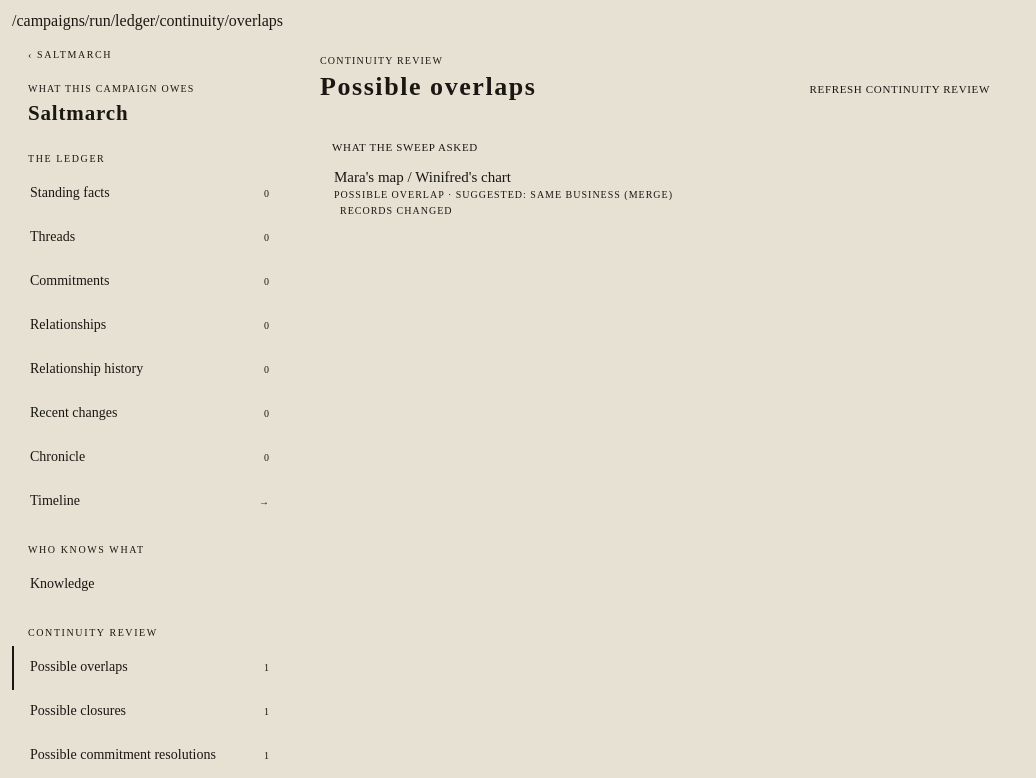
Scenario: what the sweep asked says so when nothing was captured
This screenshot has width=1036, height=778.
Click the button "What the sweep asked" at (405, 147), box [320, 135, 490, 159]
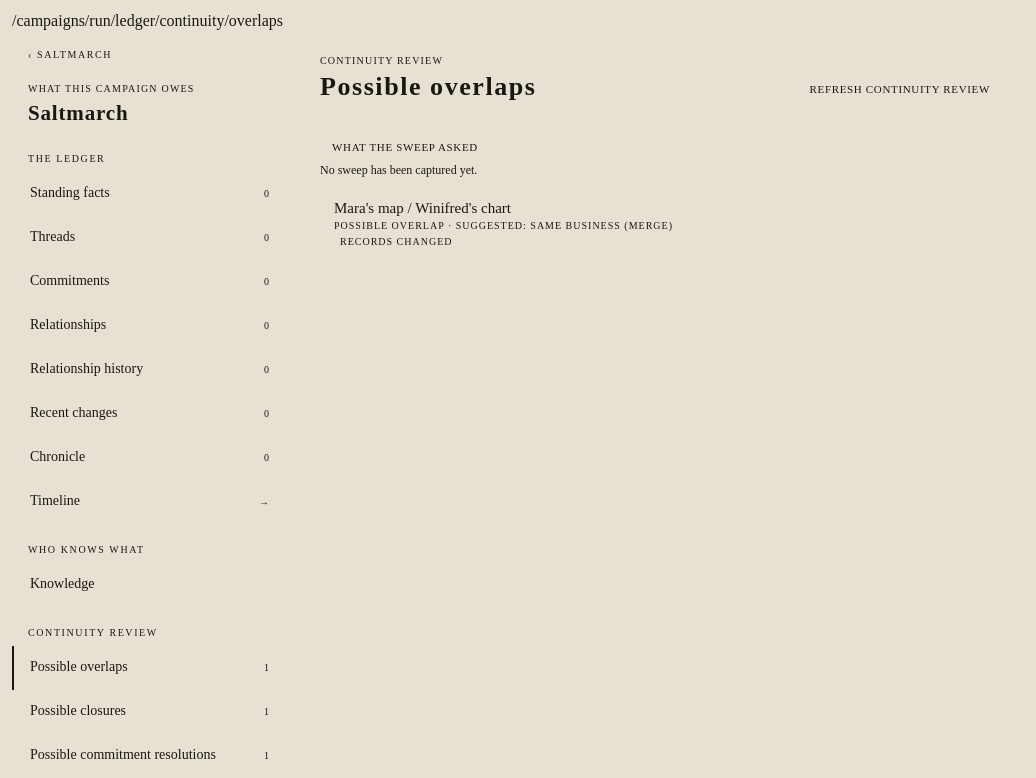
Result: the text "No sweep has been captured yet." is shown at [320, 163, 477, 177]
